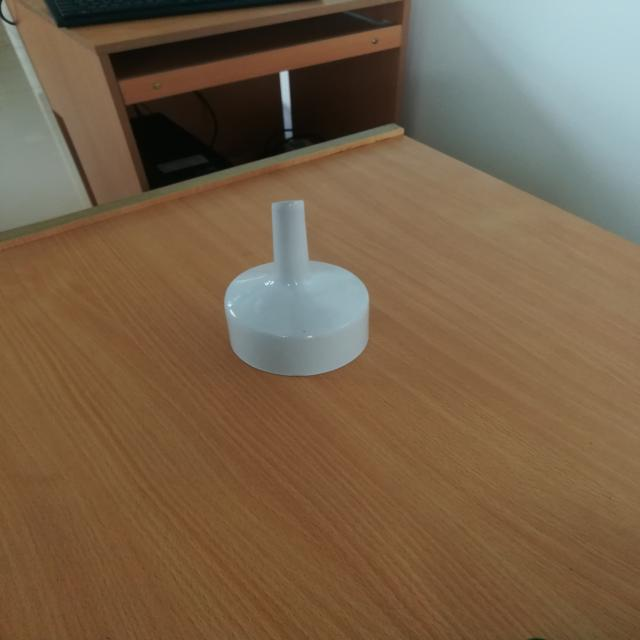Buchner_Funnel: (170, 168, 410, 398)
